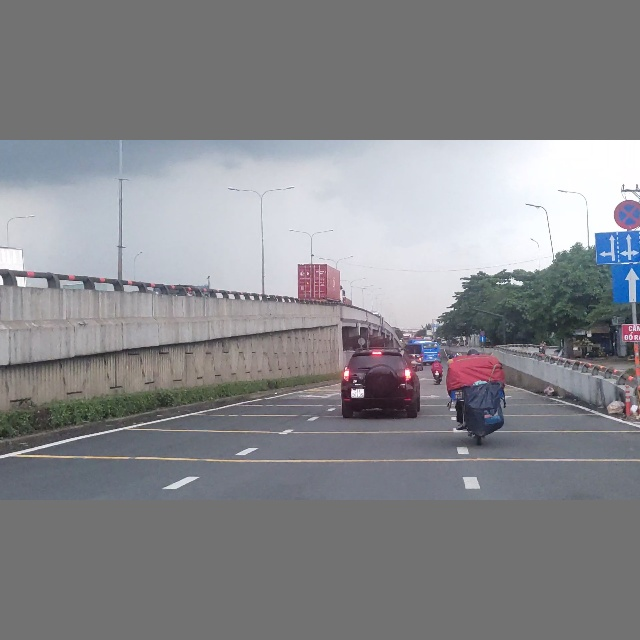I.407a: (612, 264, 640, 303), (480, 336, 486, 342)
P.130: (613, 199, 640, 230)
